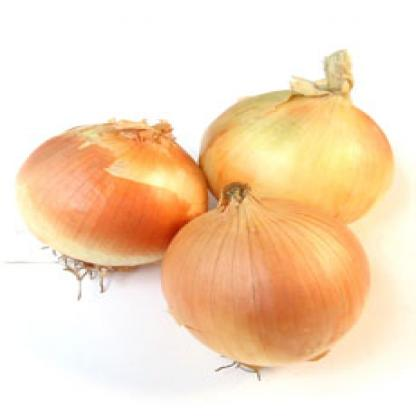--: (156, 169, 392, 385), (10, 114, 212, 284), (195, 60, 404, 224)
